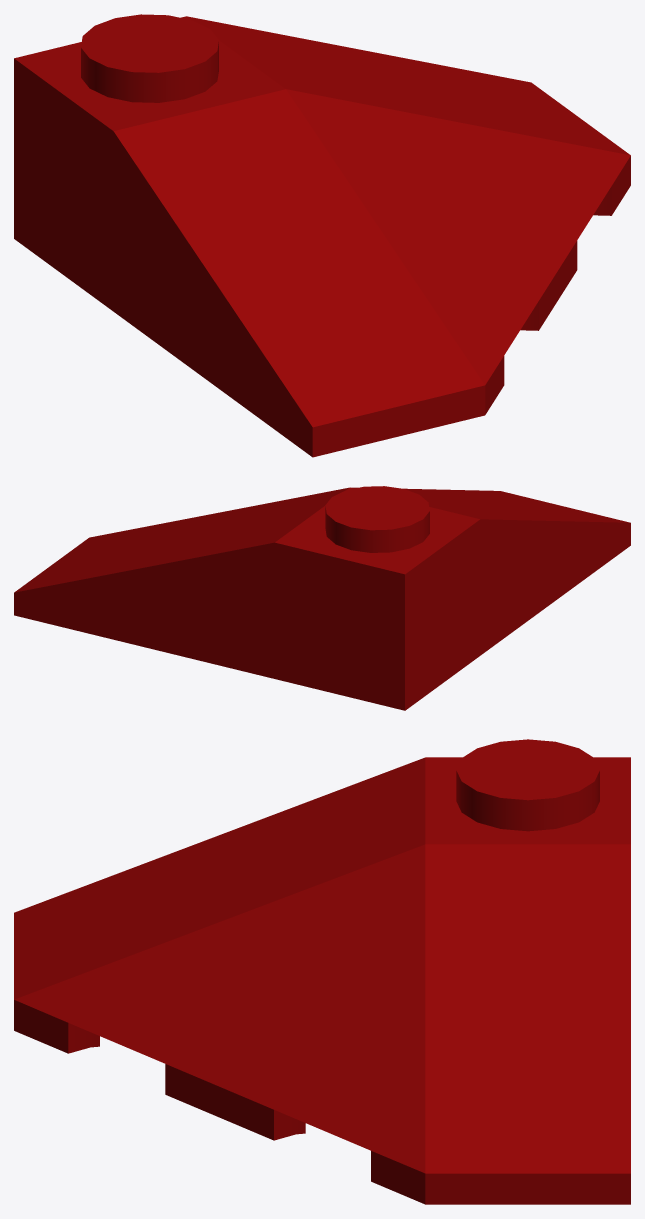
The model's file is SM_CornerRamp_3x3x1.gltf.
3 views of the same model, one above another, from view 1: azimuth 30°, elevation 25°; view 2: azimuth 150°, elevation 25°; view 3: azimuth 270°, elevation 25° (orthographic). The views are drawn at different scales.
Visible parts, largest first — view 1: SM_CornerRamp_3x3x1; view 2: SM_CornerRamp_3x3x1; view 3: SM_CornerRamp_3x3x1.
Part boxes in pixels (x1=…): SM_CornerRamp_3x3x1: x1=14, y1=14, x2=630, y2=457; SM_CornerRamp_3x3x1: x1=14, y1=486, x2=630, y2=710; SM_CornerRamp_3x3x1: x1=14, y1=739, x2=630, y2=1204.
Bounding box in the file's own units: 0.9 × 0.35 × 0.9.
